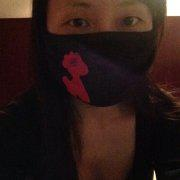OK: (54, 3, 152, 101)
